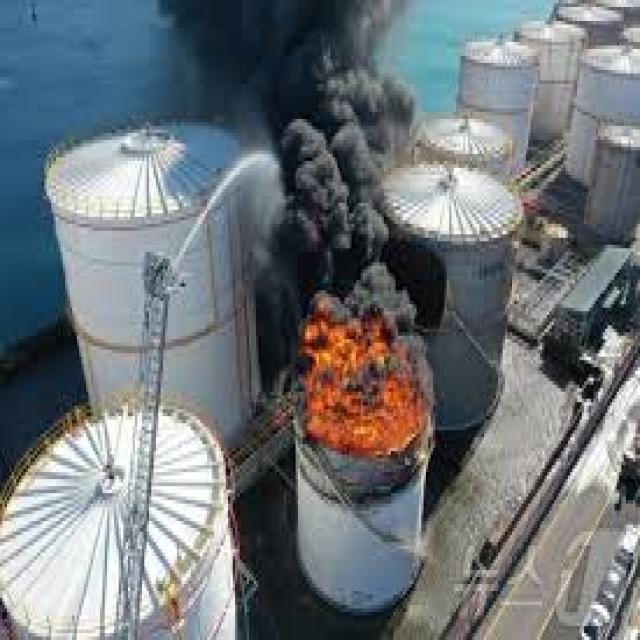explosion: (271, 59, 464, 544)
